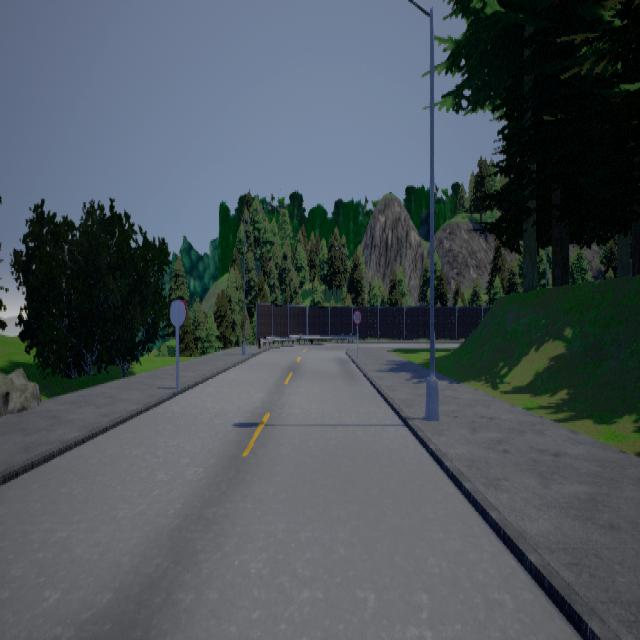traffic_sign: (352, 308, 361, 324)
